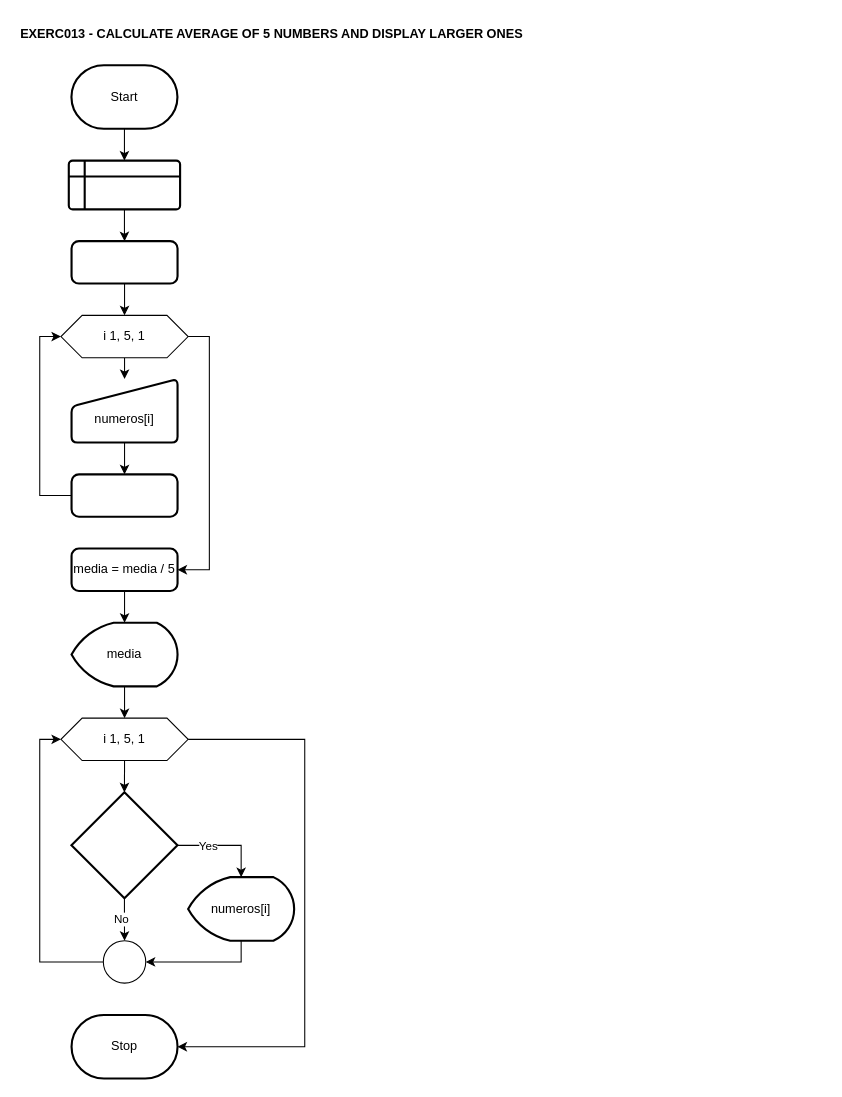
This 842x1097 diagram has some shape labels left out. The shapes that lost their labels are listed below. From the top down, each one's centre as x and y in pixels, then its label:
At (x=124, y=184): "numeros[5] media".
At (x=124, y=262): "media = 0".
At (x=124, y=495): "media = media + numeros[i]".
At (x=124, y=845): "numeros[i] >= media".
